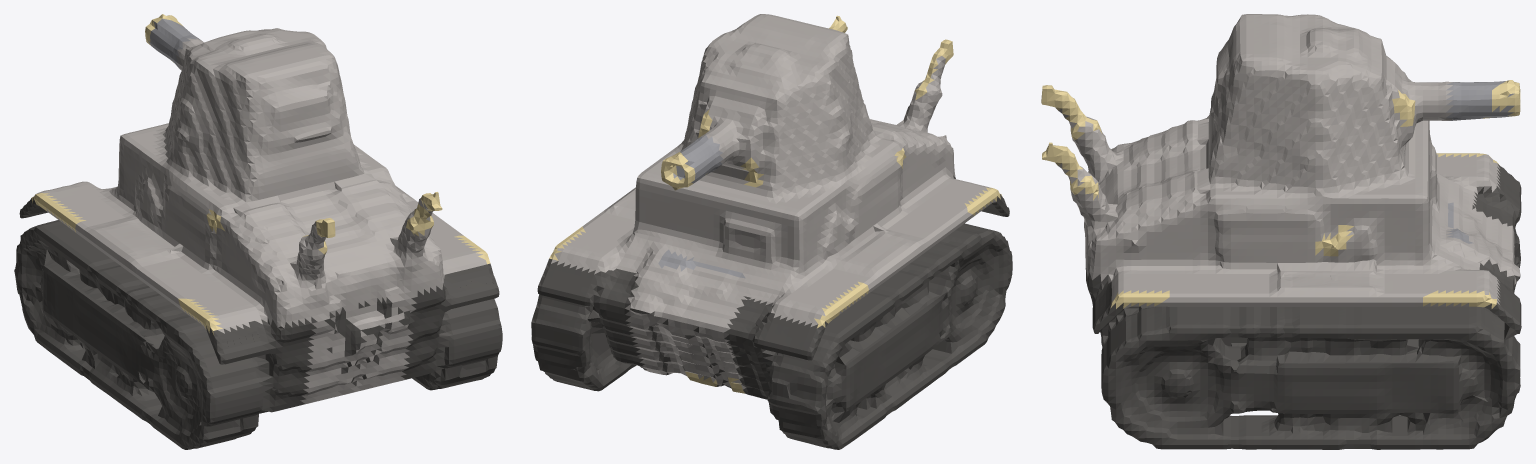
The model's file is unit_warpig.glb.
3 renders of one model, left to right at view 1: azimuth 30°, elevation 25°; view 2: azimuth 150°, elevation 25°; view 3: azimuth 270°, elevation 25°, orthographic. The views are drawn at different scales.
Visible parts, largest first — view 1: Mesh_0.065; view 2: Mesh_0.065; view 3: Mesh_0.065.
Part boxes in pixels (box(x1,y1,x2,y2)): Mesh_0.065: box(14, 14, 502, 449); Mesh_0.065: box(531, 14, 1012, 449); Mesh_0.065: box(1041, 14, 1521, 449).
Size of the model in its own units: 2.41 by 2.51 by 3.2.
